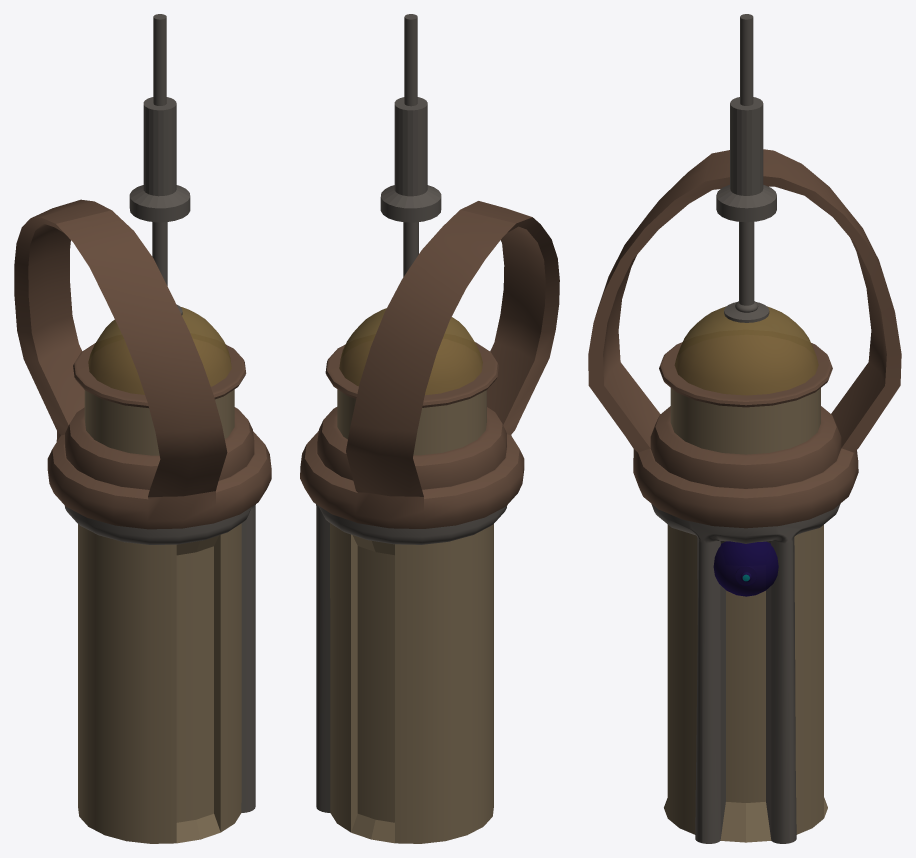
File: ArchBuilding.fbx
3 views of the same model, side by side, from view 1: azimuth 30°, elevation 25°; view 2: azimuth 150°, elevation 25°; view 3: azimuth 270°, elevation 25° (orthographic).
Visible parts, largest first — view 1: pCylinder23, polySurface37; view 2: pCylinder23, polySurface37; view 3: pCylinder23, polySurface37, polySurface36.
Boxes of the visible parts, x1,y1,x2,y2 form: pCylinder23: (14, 199, 271, 843); polySurface37: (88, 14, 231, 394); pCylinder23: (300, 201, 559, 843); polySurface37: (339, 14, 482, 395); pCylinder23: (588, 149, 901, 843); polySurface37: (674, 14, 818, 395); polySurface36: (713, 541, 778, 596).
Size of the model in its own units: 18.37 by 68.91 by 24.72.
